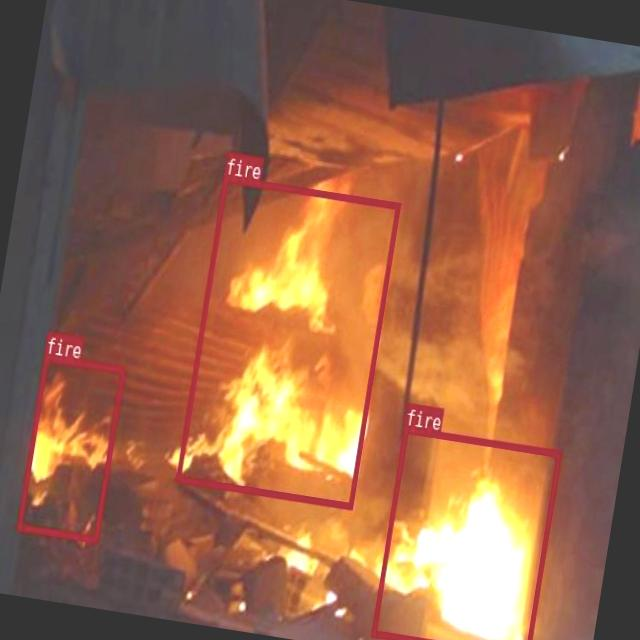fire: (176, 174, 400, 508), (370, 425, 561, 640), (16, 354, 124, 542)
